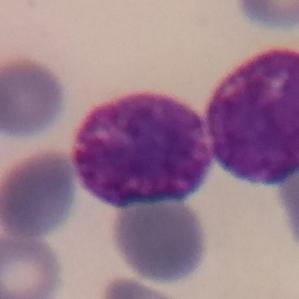Basophil: (62, 82, 222, 215), (199, 39, 299, 198)
RBC: (107, 188, 212, 287), (0, 149, 81, 241), (0, 55, 70, 143), (0, 231, 65, 299), (275, 157, 299, 254), (232, 0, 299, 33), (97, 274, 185, 299)
